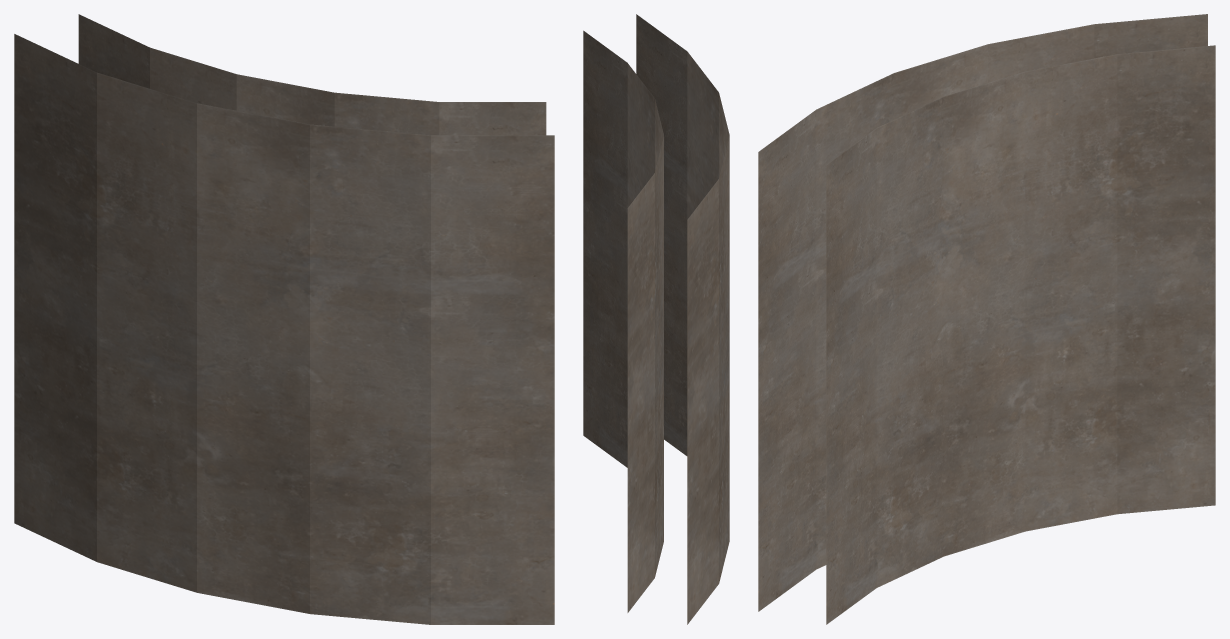
Rendered from StoneTowerAngleWall.fbx.
The picture shows the model from 3 angles, left to right: view 1: azimuth 30°, elevation 25°; view 2: azimuth 150°, elevation 25°; view 3: azimuth 270°, elevation 25°; orthographic projection. The views are drawn at different scales.
Visible parts, largest first — view 1: Cylinder.026; view 2: Cylinder.026; view 3: Cylinder.026.
Boxes of the visible parts, x1,y1,x2,y2 form: Cylinder.026: (14, 14, 554, 624); Cylinder.026: (583, 14, 729, 624); Cylinder.026: (758, 14, 1215, 624).
Size of the model in its own units: 1.87 by 2.67 by 2.4.
